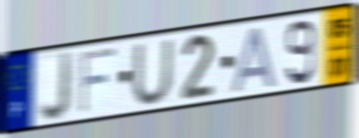2: (180, 31, 218, 104)
9: (285, 18, 317, 86)
A: (230, 24, 280, 95)
F: (78, 44, 119, 118)
J: (38, 49, 75, 124)
U: (130, 36, 175, 107)
